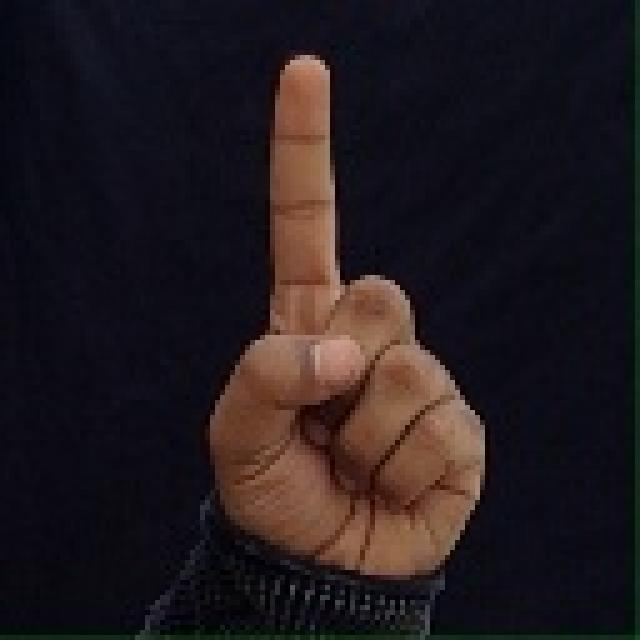IloveYou: (185, 41, 518, 596)
